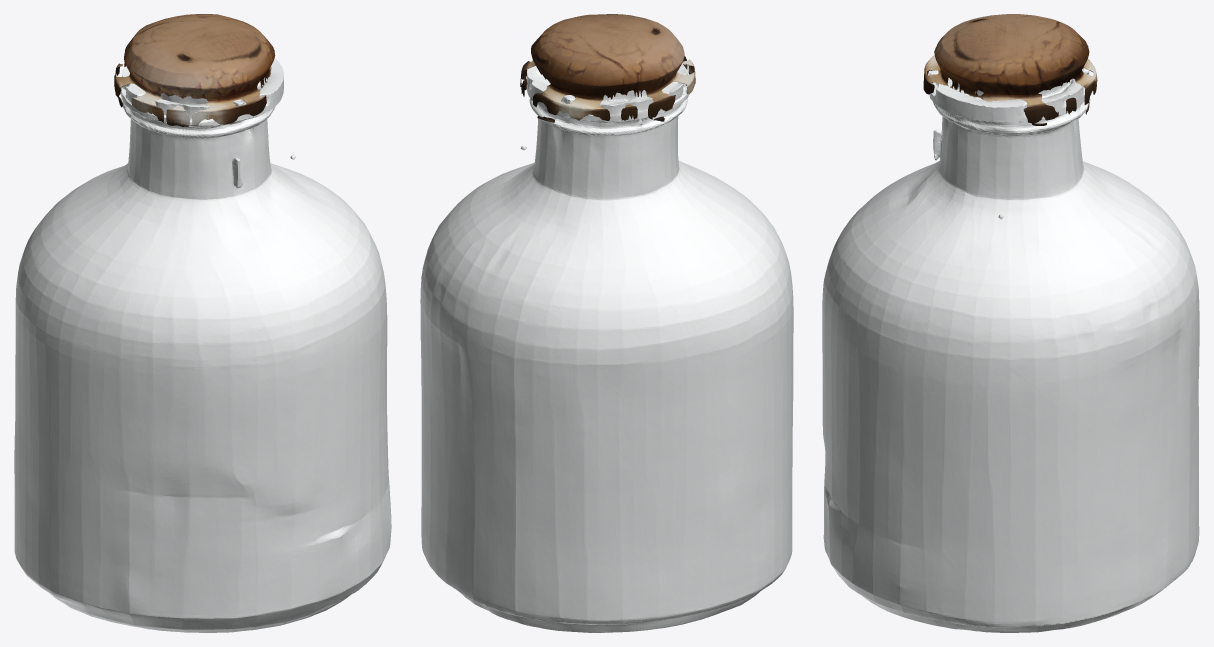
3 views of the same model, side by side, from view 1: azimuth 30°, elevation 25°; view 2: azimuth 150°, elevation 25°; view 3: azimuth 270°, elevation 25° (orthographic).
Parts seen in each view (by area): view 1: 0, 1; view 2: 0, 1; view 3: 0, 1.
Part boxes in pixels (x1,y1,x2,y2): 0: [14, 58, 391, 632]; 1: [114, 14, 275, 127]; 0: [420, 59, 793, 632]; 1: [520, 14, 695, 122]; 0: [822, 68, 1199, 632]; 1: [923, 14, 1097, 125].
Size of the model in its own units: 0.6166 by 0.9526 by 0.6121.
Materials: 3 (2 with a texture image).
